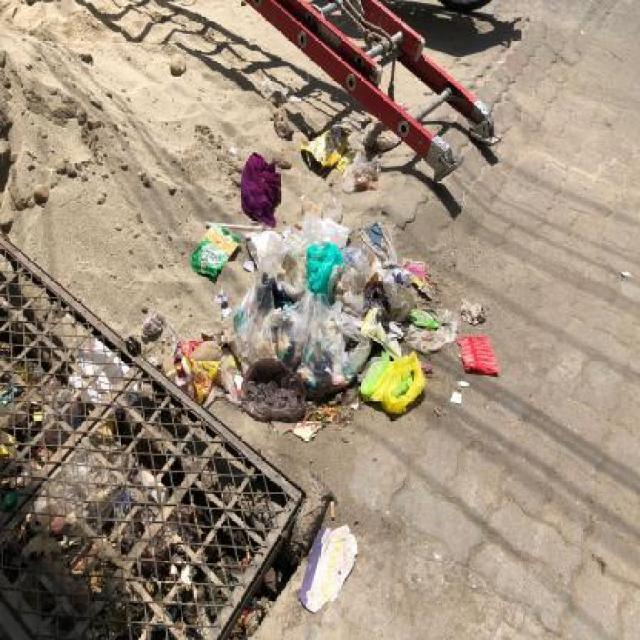garbage: (19, 149, 505, 620)
